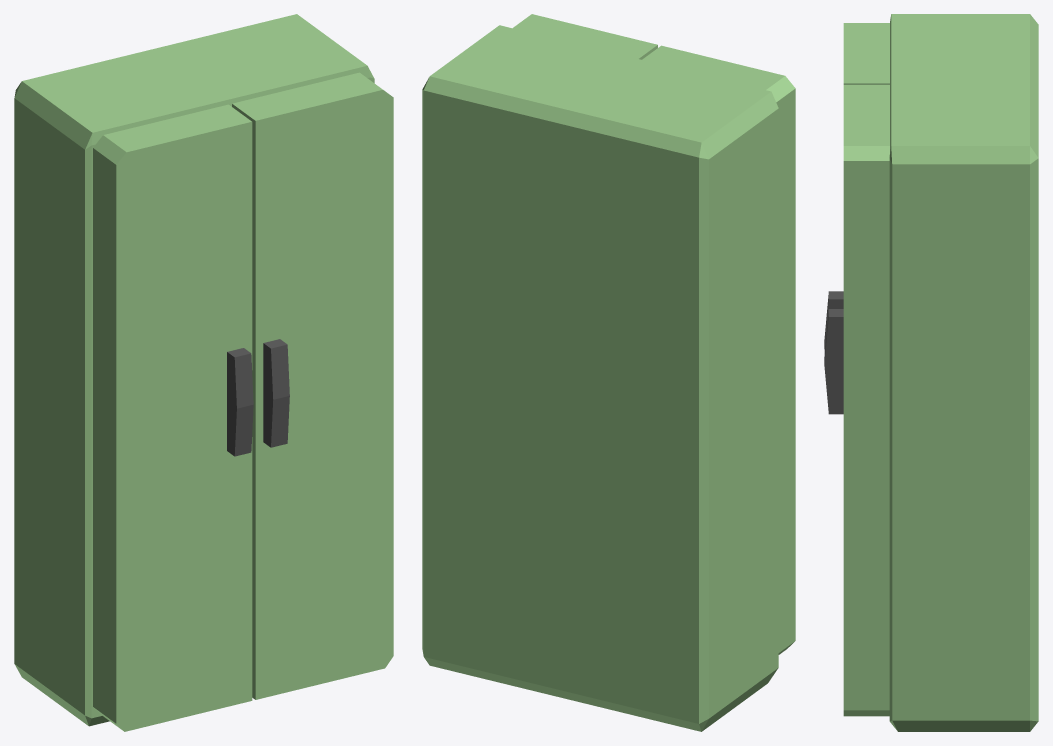
The model's file is Fridge.fbx.
3 renders of one model, left to right at view 1: azimuth 30°, elevation 25°; view 2: azimuth 150°, elevation 25°; view 3: azimuth 270°, elevation 25°, orthographic.
Parts seen in each view (by area): view 1: Fridge; view 2: Fridge; view 3: Fridge.
Part boxes in pixels (box(x1,y1,x2,y2)): Fridge: box(14, 14, 393, 731); Fridge: box(422, 14, 795, 731); Fridge: box(824, 14, 1038, 731).
Size of the model in its own units: 304 by 597 by 198.
